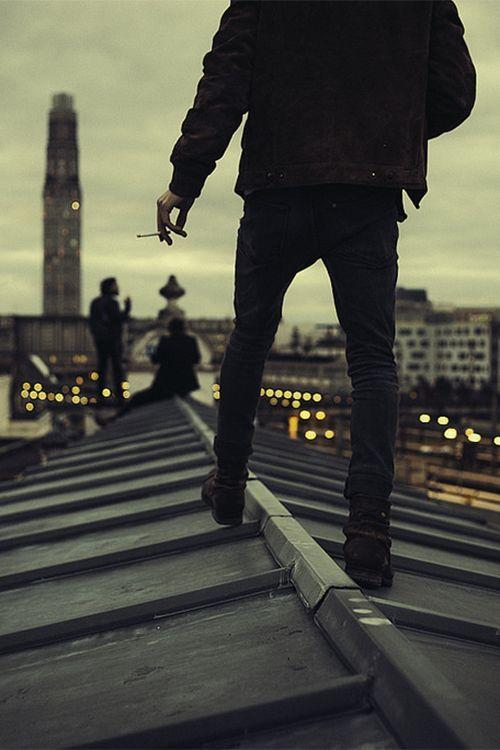cigarette: (137, 230, 170, 237)
